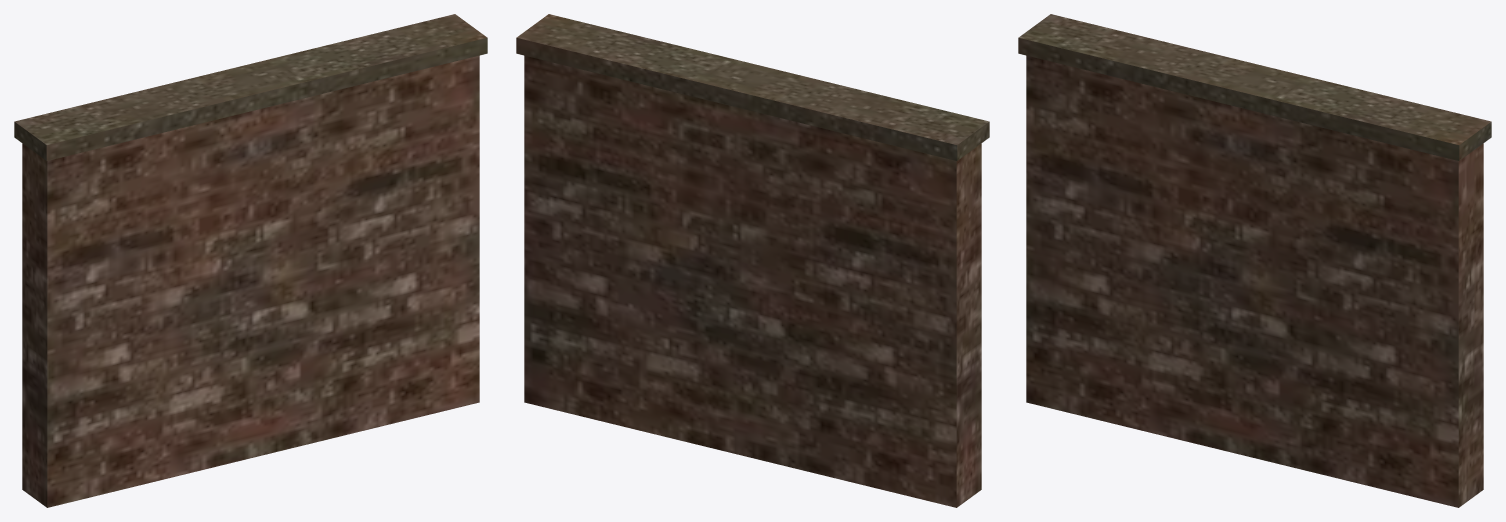
The model's file is detail_wallBrick.glb.
The picture shows the model from 3 angles, left to right: view 1: azimuth 30°, elevation 25°; view 2: azimuth 150°, elevation 25°; view 3: azimuth 330°, elevation 25°; orthographic projection.
Visible parts, largest first — view 1: detail_wallBrick_LOD0; view 2: detail_wallBrick_LOD0; view 3: detail_wallBrick_LOD0.
Boxes of the visible parts, x1,y1,x2,y2 form: detail_wallBrick_LOD0: [14, 14, 487, 507]; detail_wallBrick_LOD0: [516, 14, 989, 507]; detail_wallBrick_LOD0: [1018, 14, 1491, 507].
Size of what is drawn, in the model's own units: 2.04 by 1.62 by 0.2598.
Materials: 1 (1 with a texture image).
